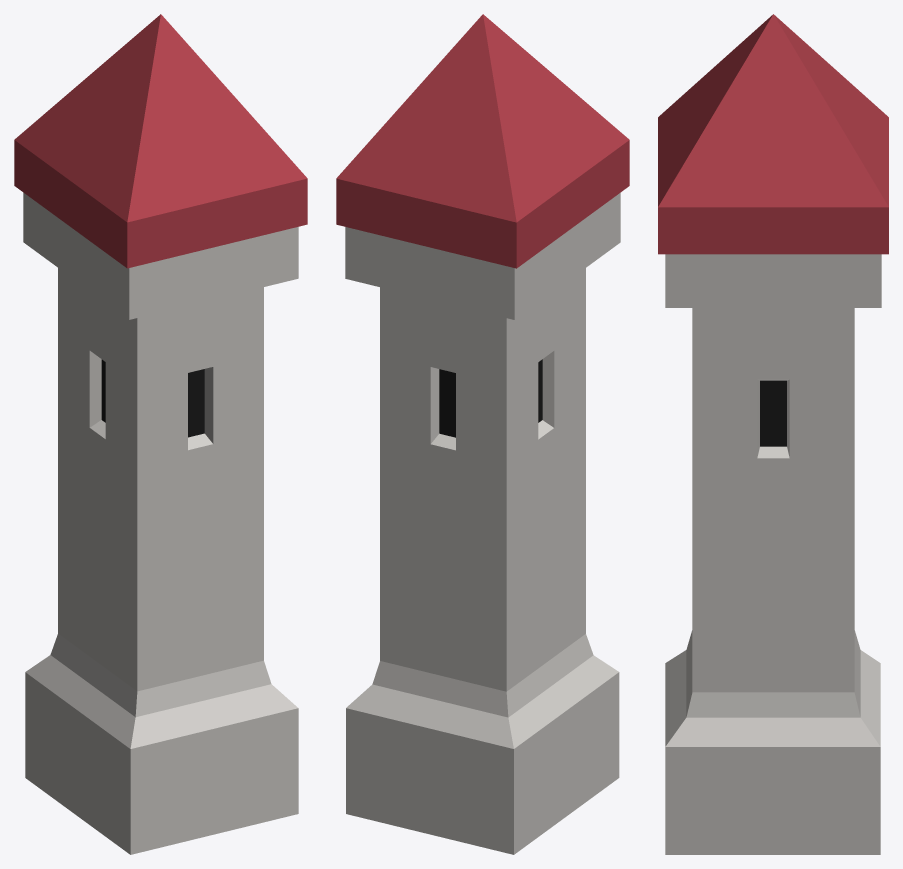
Rendered from Simpletower.glb.
The picture shows the model from 3 angles, left to right: view 1: azimuth 30°, elevation 25°; view 2: azimuth 150°, elevation 25°; view 3: azimuth 270°, elevation 25°; orthographic projection. The views are drawn at different scales.
Parts seen in each view (by area): view 1: SimpleTower; view 2: SimpleTower; view 3: SimpleTower.
Part boxes in pixels (box(x1,y1,x2,y2)): SimpleTower: box(14, 14, 307, 854); SimpleTower: box(336, 14, 629, 854); SimpleTower: box(658, 14, 888, 854).
Bounding box in the file's own units: 0.6397 × 2.65 × 0.6943.
